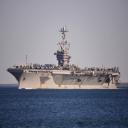Portanaves: (7, 25, 123, 91)
